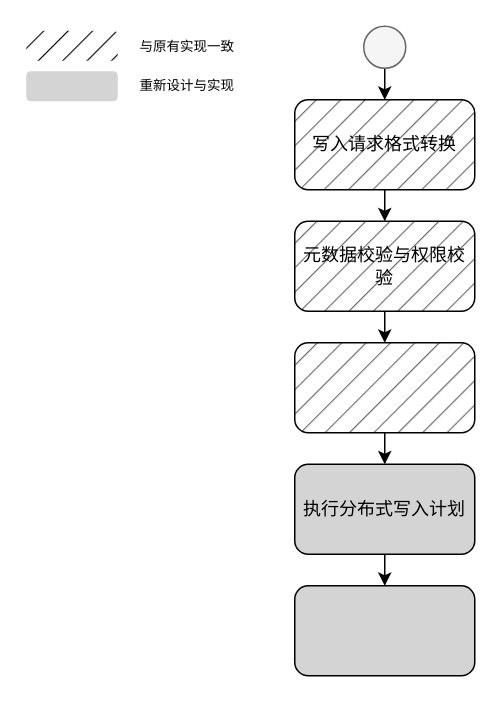
Some shapes in this 501 by 702 pixel diagram are drawn without their labels. Each missing label, with the centre of its shape:
存储引擎写入单个计划分片: pixel 384 630
构建分布式写入计划: pixel 384 387
